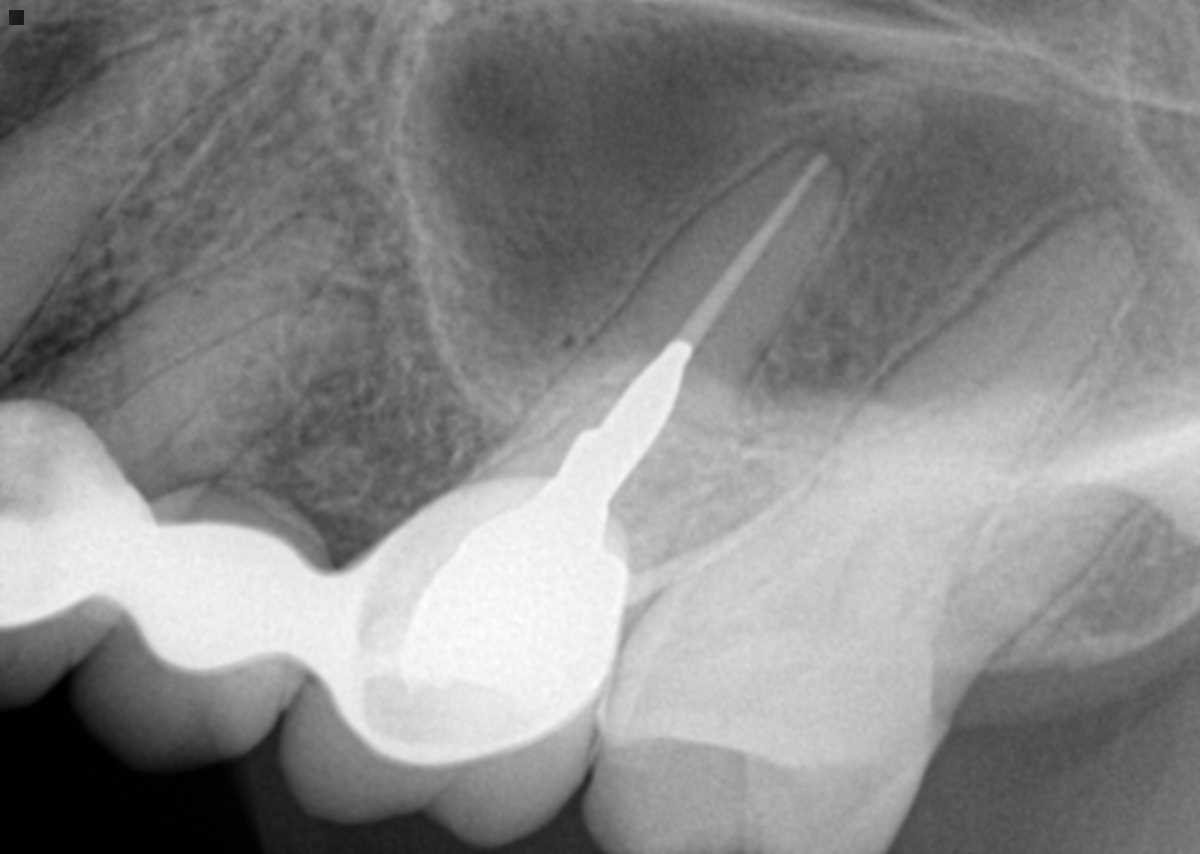Apical Lesion: (807, 119, 866, 178)
Distal Root: (923, 396, 1200, 649), (617, 436, 842, 665)
Main Root: (0, 15, 282, 363), (94, 292, 385, 519)
Mesial Canal: (477, 404, 756, 546)
Mesial Root: (766, 395, 1100, 538)
Palatal Canal: (982, 226, 1120, 392)
Palatal Root: (664, 200, 1136, 696), (409, 143, 842, 680)
Root Canal Filling: (674, 151, 827, 351), (623, 463, 821, 601)
